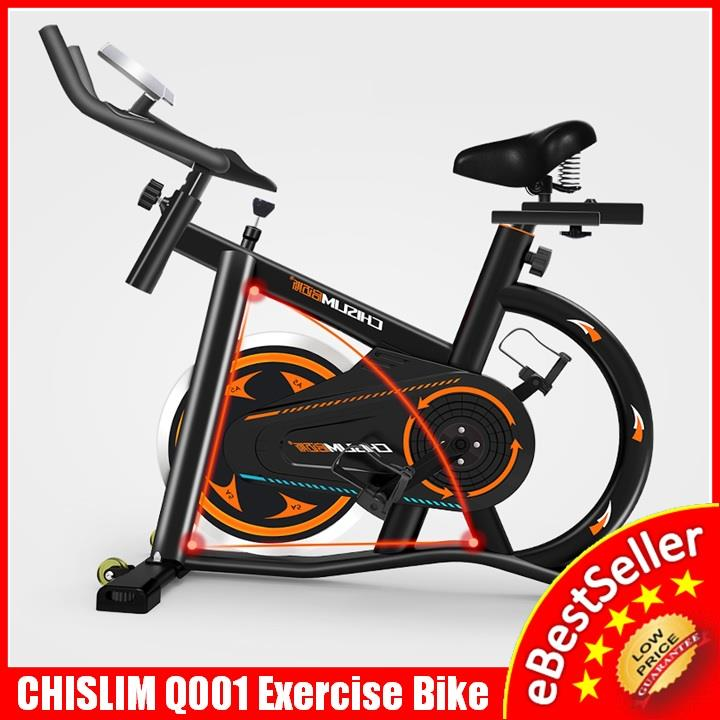gym_bike: (38, 40, 665, 660)
